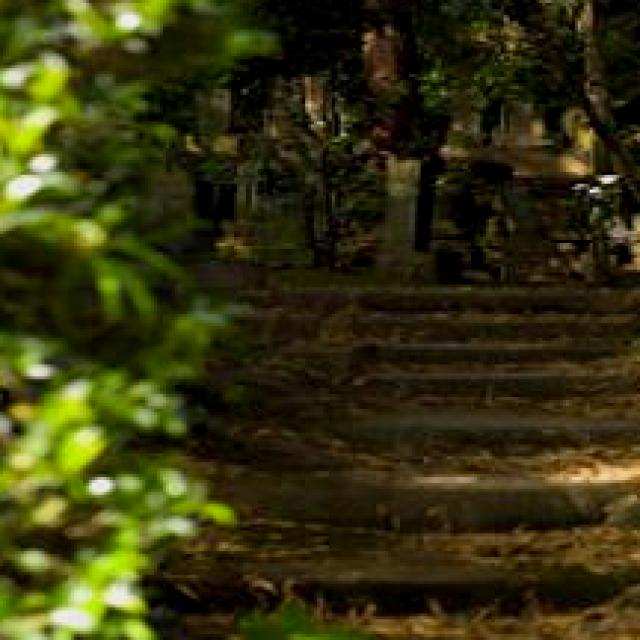upstair: (191, 259, 611, 591)
